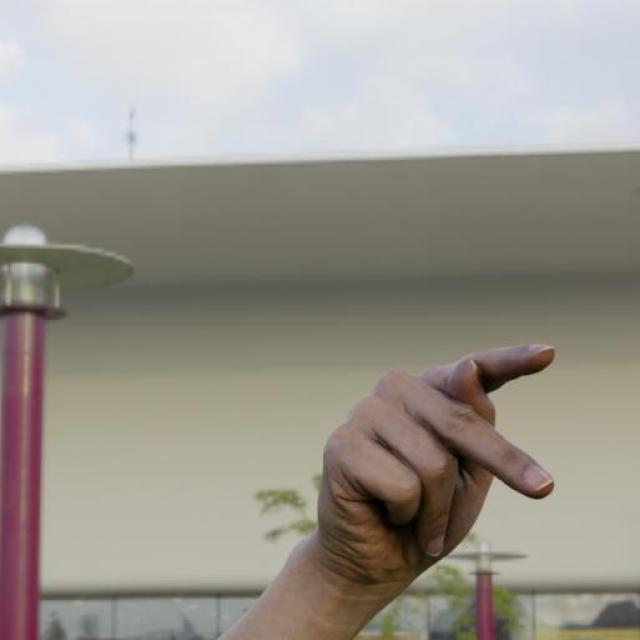P: (284, 328, 582, 583)
